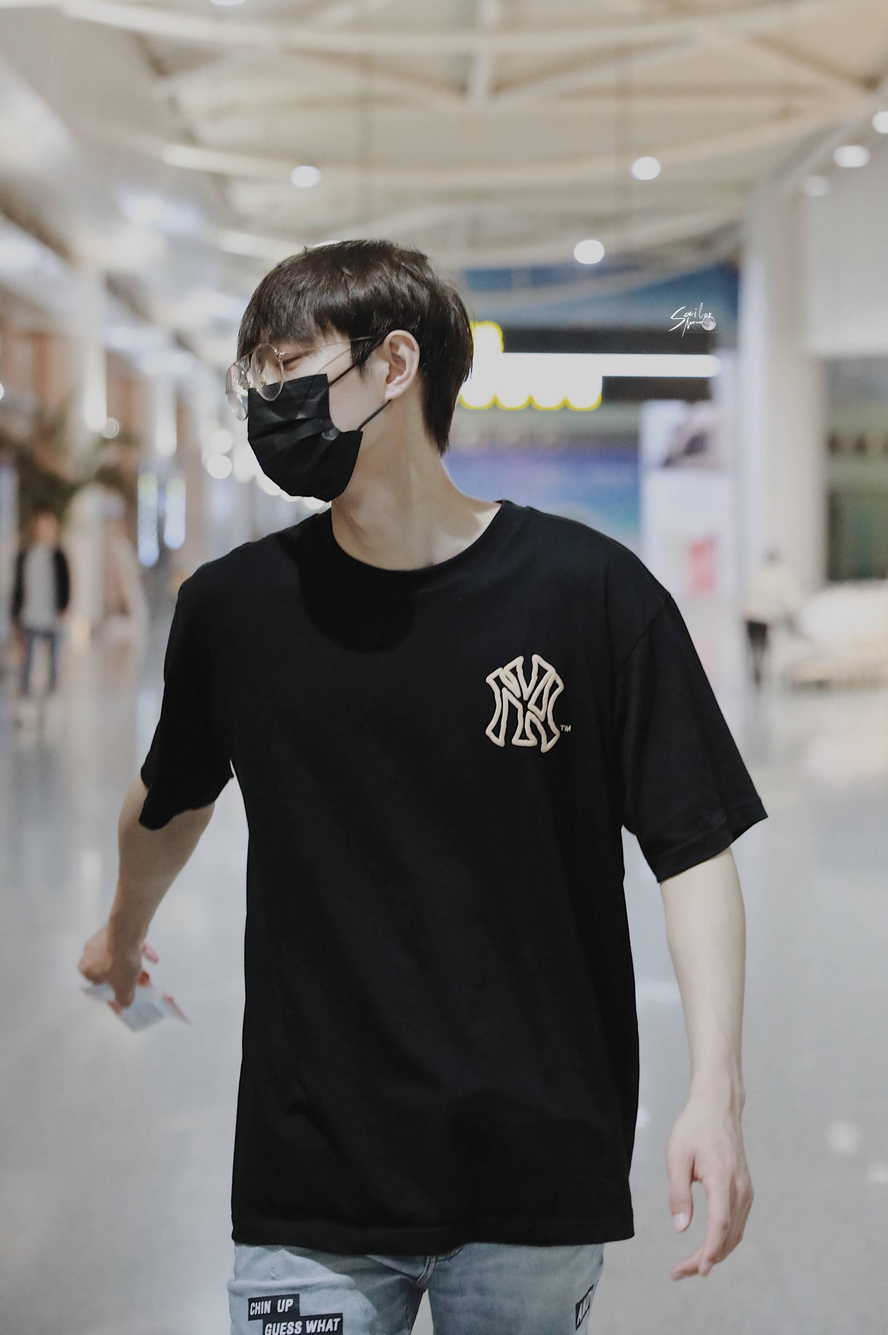OK: (245, 341, 362, 504)
